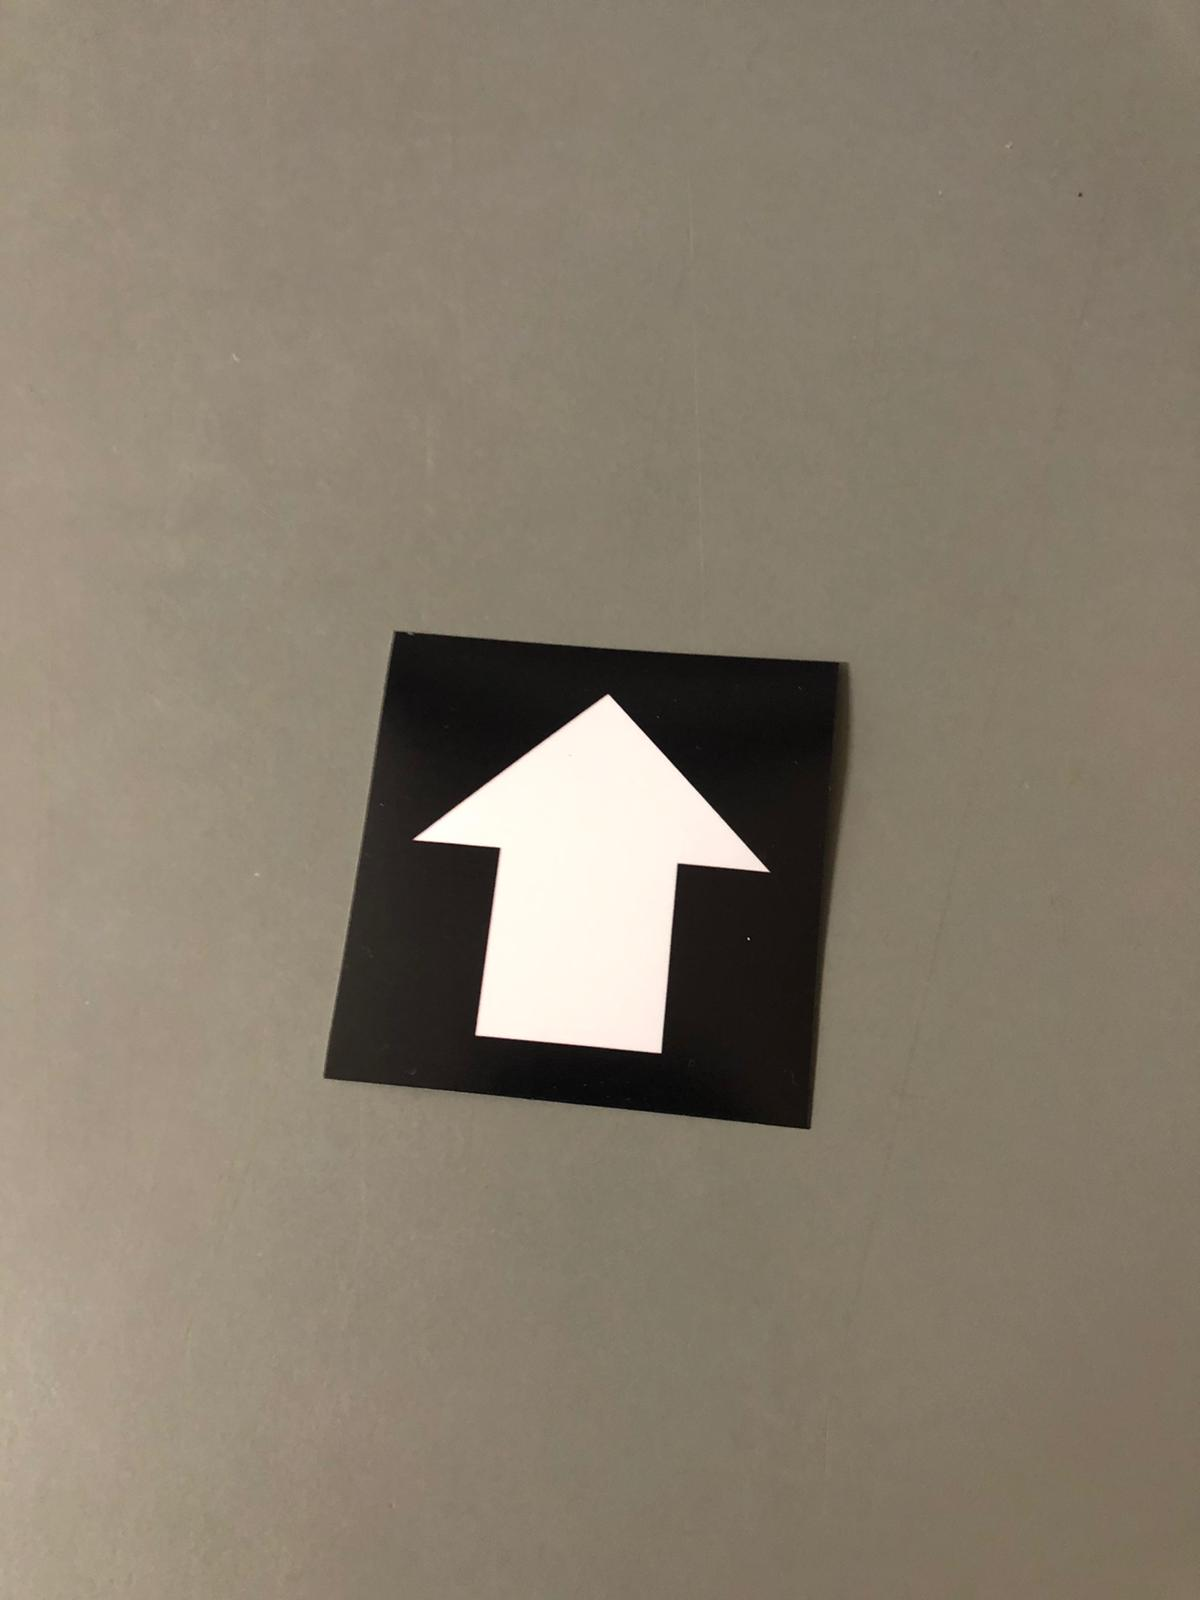Top Arrow: (400, 656, 787, 1105)
